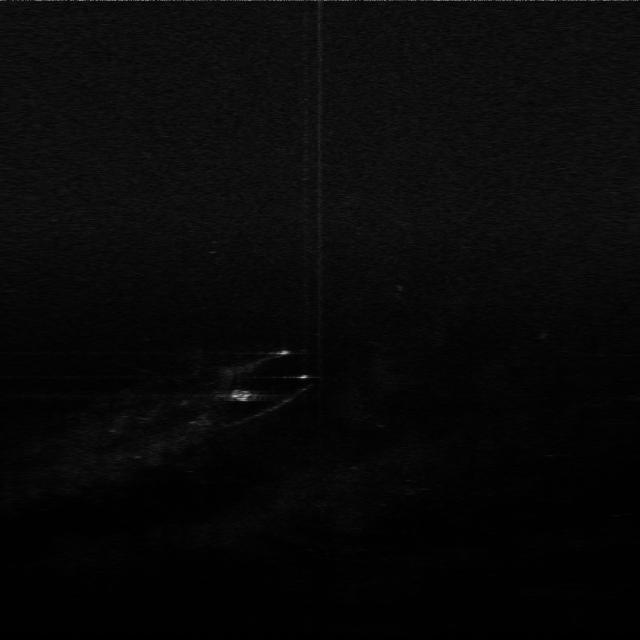rov: (224, 384, 260, 406)
